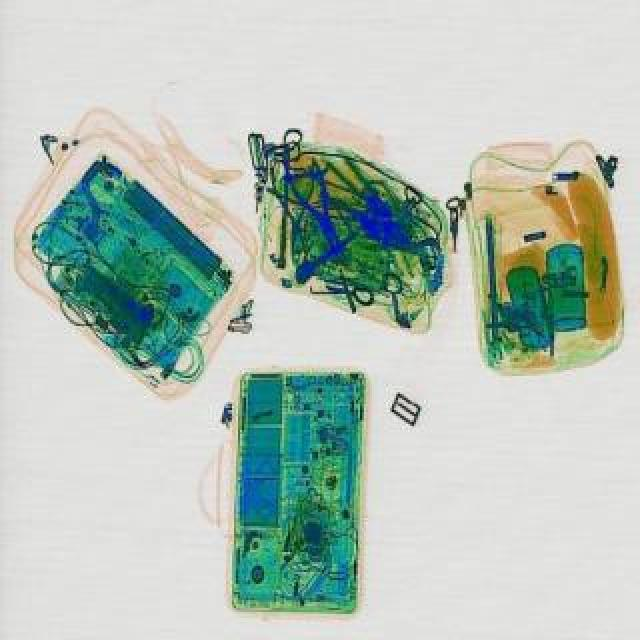wrench: (280, 156, 358, 260), (268, 162, 322, 254)
